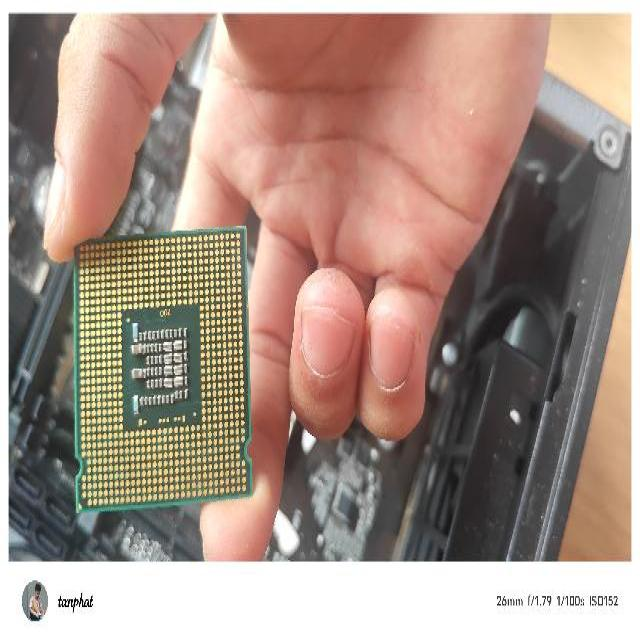CPU: (66, 224, 252, 514)
